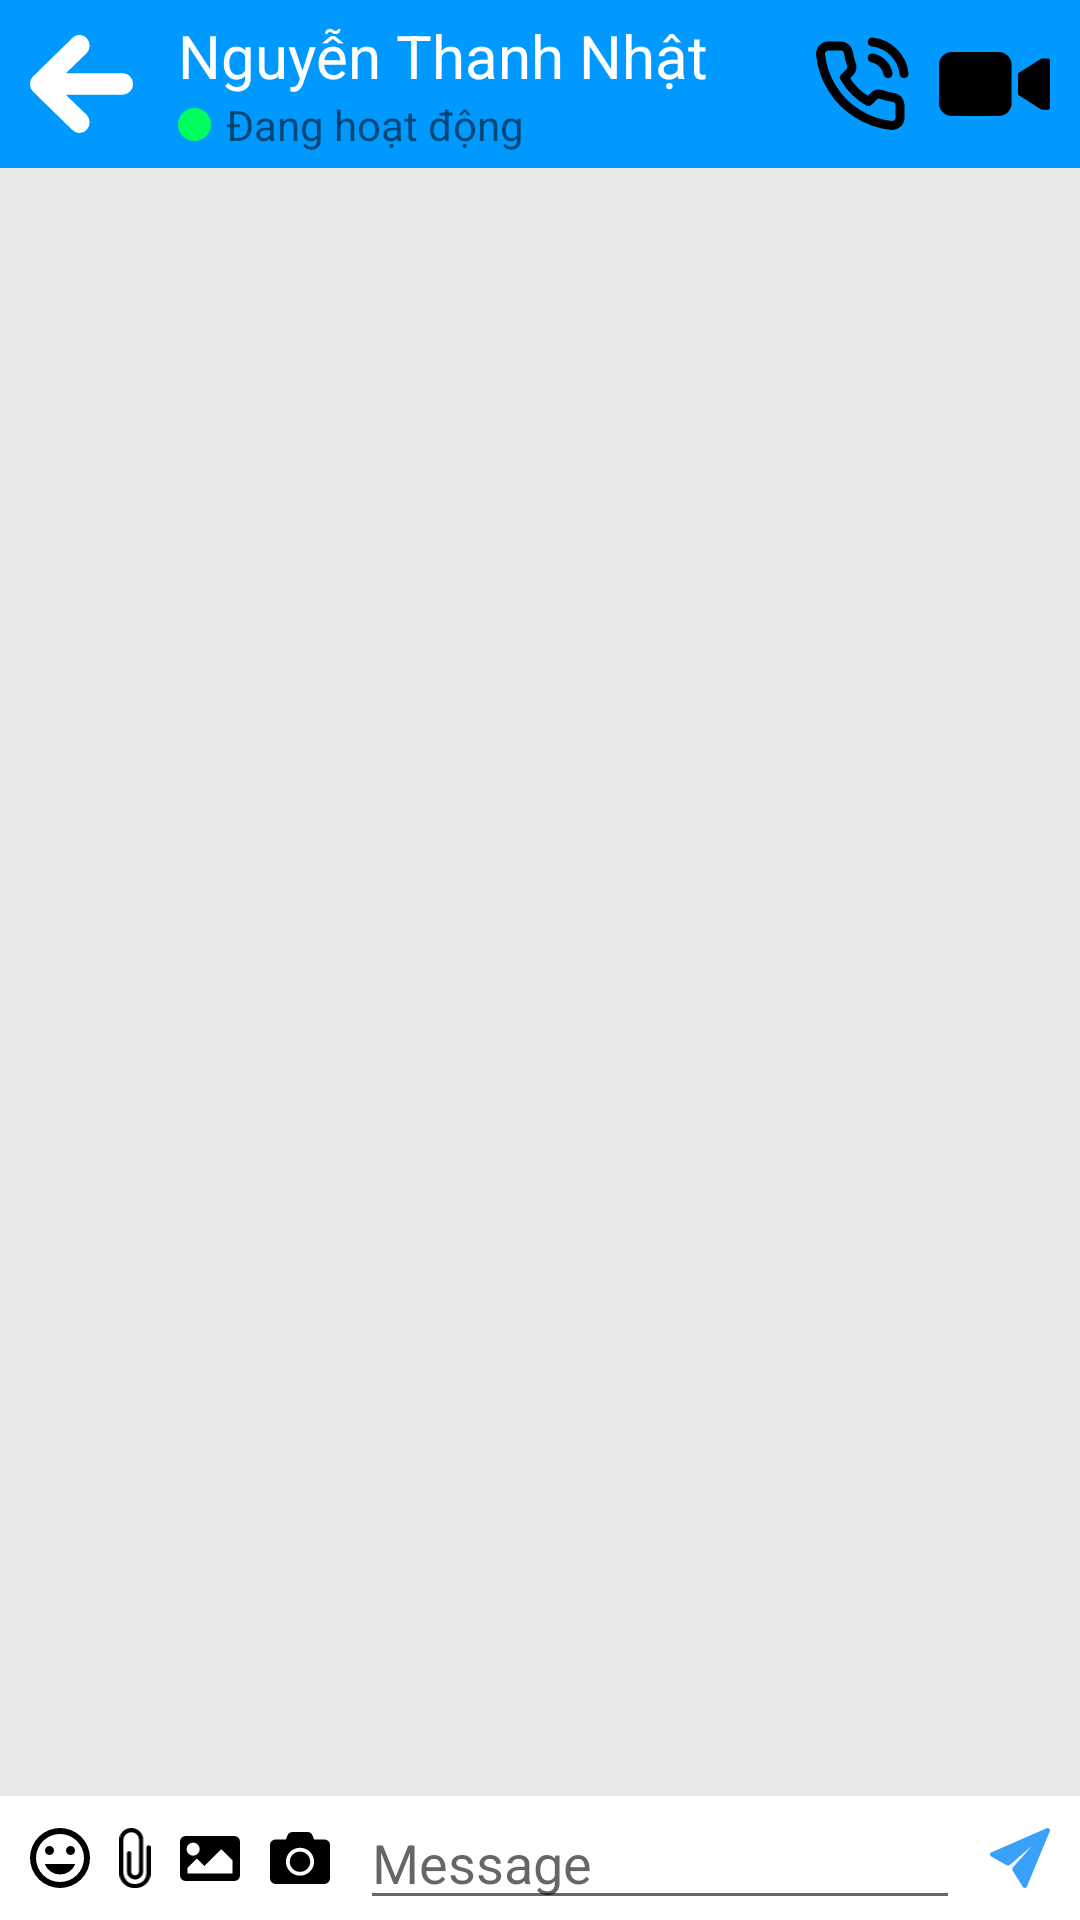

Named icons in this screenshot (1080*1920) and their centers, (x,y):
attach: (135,1858)
back: (81,84)
call: (862,83)
camera: (300,1858)
emoji: (60,1858)
send: (1020,1858)
video: (994,84)
